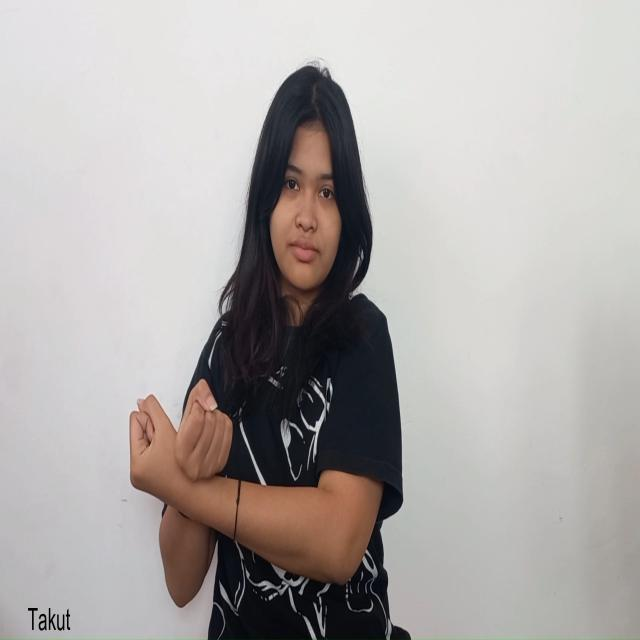Takut -BISINDO-: (127, 373, 235, 541)
